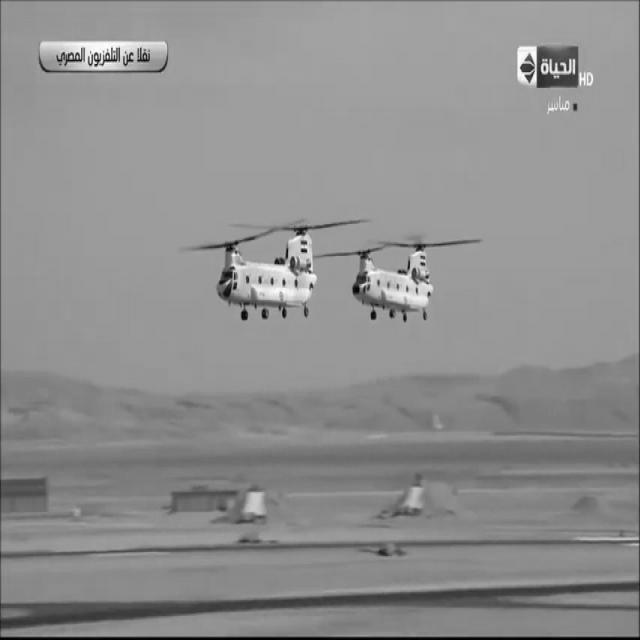helikopter: (182, 215, 325, 332), (334, 234, 458, 334)
